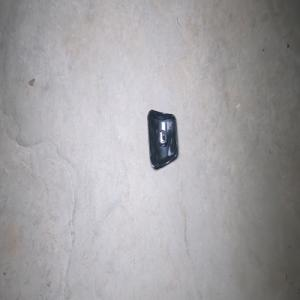LuggagePart: (146, 108, 178, 170)
